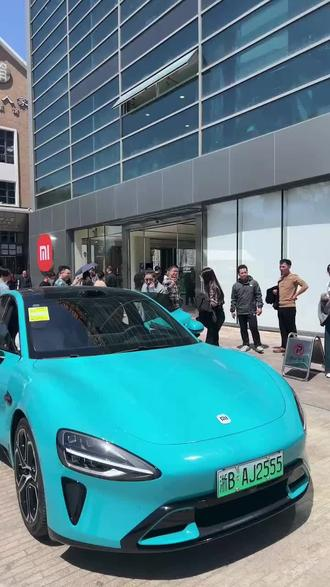su7: (0, 287, 313, 558)
